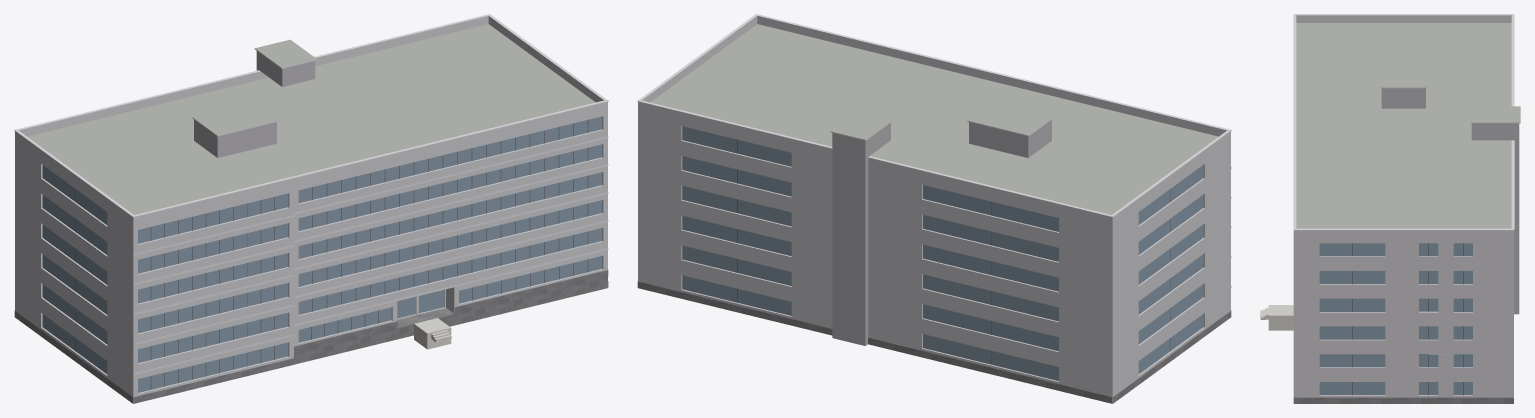
3 views of the same model, side by side, from view 1: azimuth 30°, elevation 25°; view 2: azimuth 150°, elevation 25°; view 3: azimuth 270°, elevation 25° (orthographic). The views are drawn at different scales.
Parts seen in each view (by area): view 1: b36__wall, b36__roof, b36__glass, b36__trim, b36__parapet, b36__base, b36__frame, b36__wall2, b36__entranceStair; view 2: b36__wall, b36__roof, b36__glass, b36__wall2, b36__parapet, b36__base, b36__trim; view 3: b36__roof, b36__wall, b36__glass, b36__parapet, b36__wall2, b36__trim, b36__base, b36__entranceStair, b36__frame.
Boxes of the visible parts, x1=… form: b36__wall: x1=15, y1=109, x2=607, y2=403; b36__roof: x1=27, y1=24, x2=607, y2=403; b36__glass: x1=42, y1=116, x2=602, y2=392; b36__trim: x1=14, y1=14, x2=608, y2=374; b36__parapet: x1=15, y1=16, x2=607, y2=224; b36__base: x1=14, y1=270, x2=608, y2=403; b36__frame: x1=75, y1=120, x2=588, y2=389; b36__wall2: x1=194, y1=51, x2=315, y2=157; b36__entranceStair: x1=414, y1=318, x2=451, y2=349; b36__wall: x1=638, y1=109, x2=1230, y2=403; b36__roof: x1=650, y1=24, x2=1218, y2=403; b36__glass: x1=682, y1=126, x2=1203, y2=380; b36__wall2: x1=832, y1=120, x2=1051, y2=345; b36__parapet: x1=638, y1=16, x2=1230, y2=224; b36__base: x1=637, y1=281, x2=1231, y2=403; b36__trim: x1=637, y1=14, x2=1231, y2=287; b36__roof: x1=1296, y1=23, x2=1520, y2=354; b36__wall: x1=1293, y1=237, x2=1513, y2=397; b36__glass: x1=1319, y1=243, x2=1472, y2=394; b36__parapet: x1=1293, y1=15, x2=1513, y2=237; b36__wall2: x1=1381, y1=88, x2=1519, y2=314; b36__trim: x1=1293, y1=14, x2=1520, y2=230; b36__base: x1=1293, y1=397, x2=1513, y2=403; b36__entranceStair: x1=1260, y1=305, x2=1293, y2=330; b36__frame: x1=1352, y1=243, x2=1463, y2=395.
Size of the model in its own units: 60.09 by 25.52 by 30.58.
10 materials, 1 textured.
